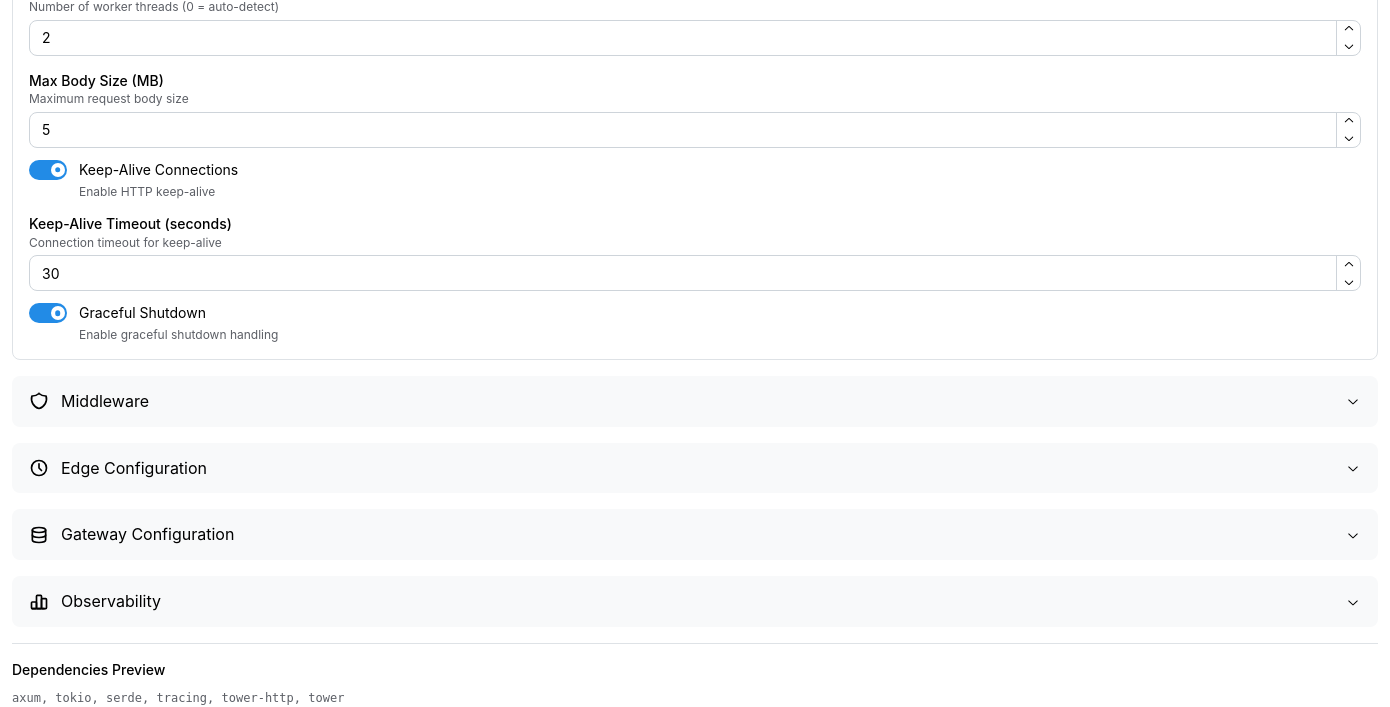
Test: RustOptionsPanel › Edge Gateway Section › shows rate limit input when rate limiting is enabled
(page scrolled)
Click the button "Gateway Configuration": (148, 534) [13, 510, 1377, 559]
(page scrolled)
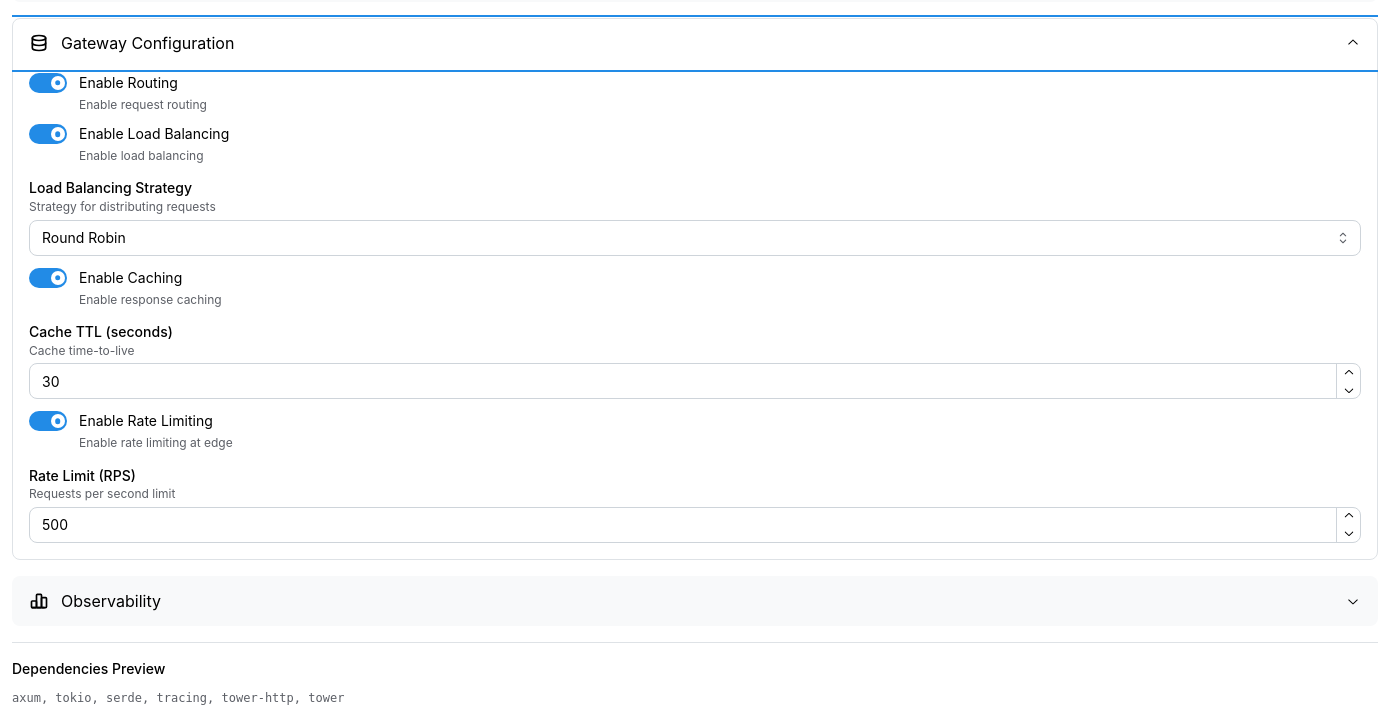
Now the field with test id "gateway-rate-limit-input" is shown, box [29, 507, 1361, 543]
